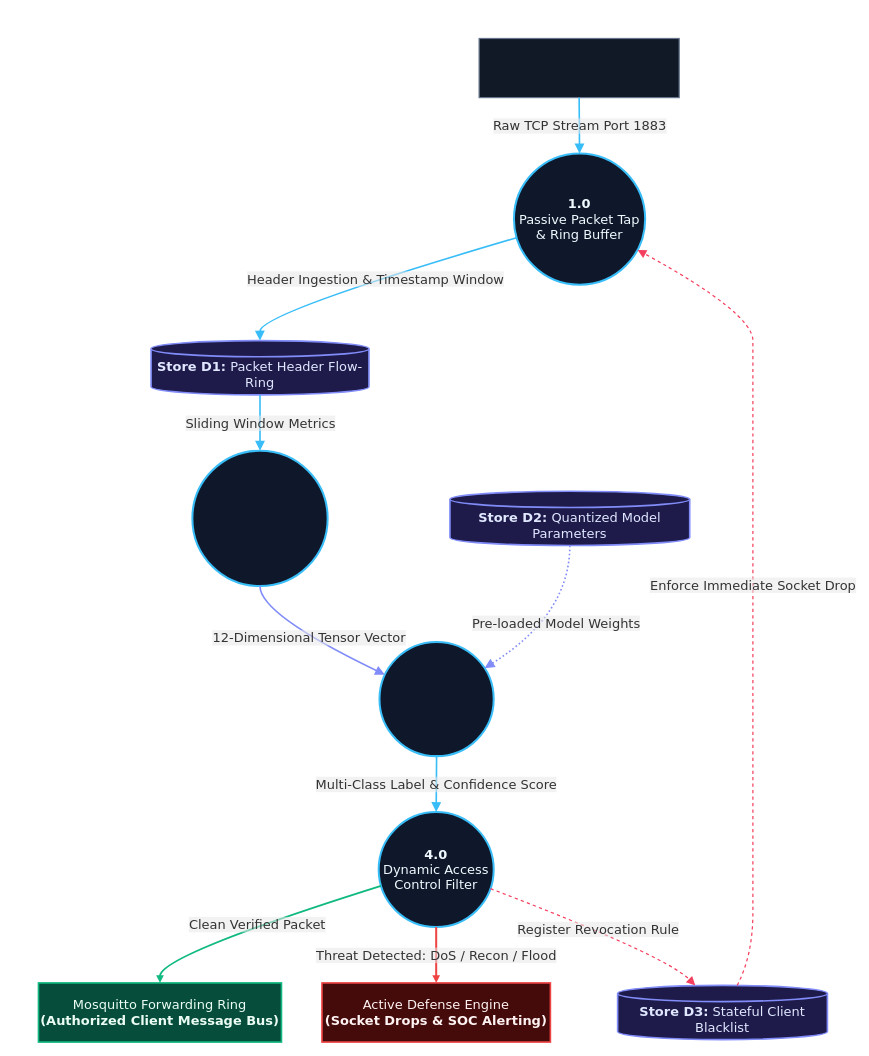
Image size: 869x1056. Some labels were removed from this diagram. Each missing label, with the box of its shape:
2.0 Edge 12-Feature Stream Synthesizer: (191, 449, 328, 587)
3.0 Sub-Millisecond ONNX Engine: (378, 641, 494, 757)
Ingress Network Interface (Raw MQTT Wire Stream): (478, 38, 679, 98)
